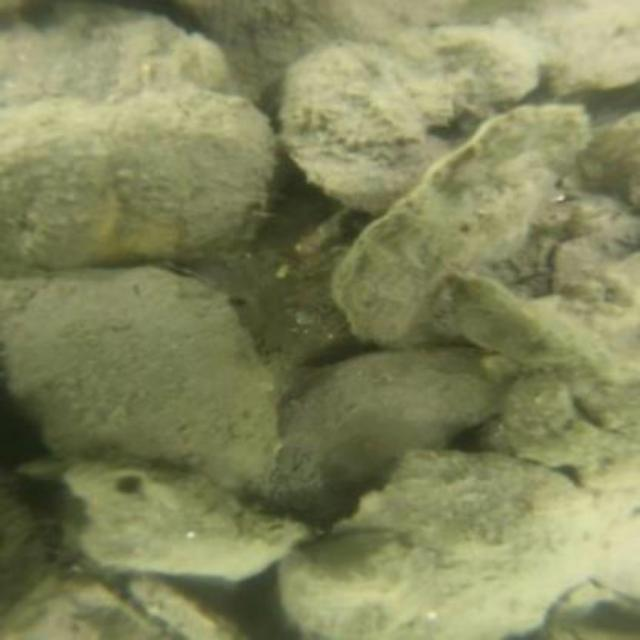Oyster-Closed: (0, 266, 287, 494), (328, 108, 601, 342), (265, 462, 621, 637), (0, 79, 271, 271), (262, 335, 508, 513), (274, 20, 550, 146), (0, 0, 225, 112), (136, 573, 260, 640)
